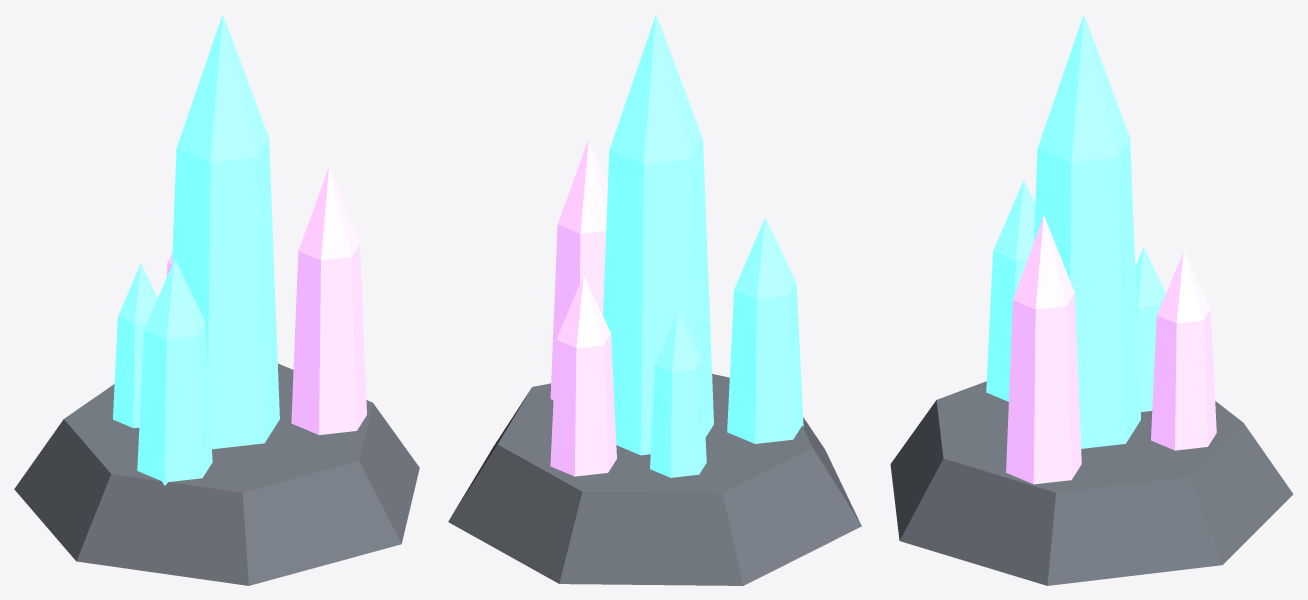
File: b-crystal-cluster.glb
The picture shows the model from 3 angles, left to right: view 1: azimuth 30°, elevation 25°; view 2: azimuth 150°, elevation 25°; view 3: azimuth 270°, elevation 25°; orthographic projection.
Visible parts, largest first — view 1: b-crystal-cluster; view 2: b-crystal-cluster; view 3: b-crystal-cluster.
Part boxes in pixels (x1,y1,x2,y2): b-crystal-cluster: (14, 14, 419, 585); b-crystal-cluster: (448, 14, 861, 585); b-crystal-cluster: (890, 14, 1293, 585).
Bounding box in the file's own units: 0.8179 × 1.07 × 0.8065.
